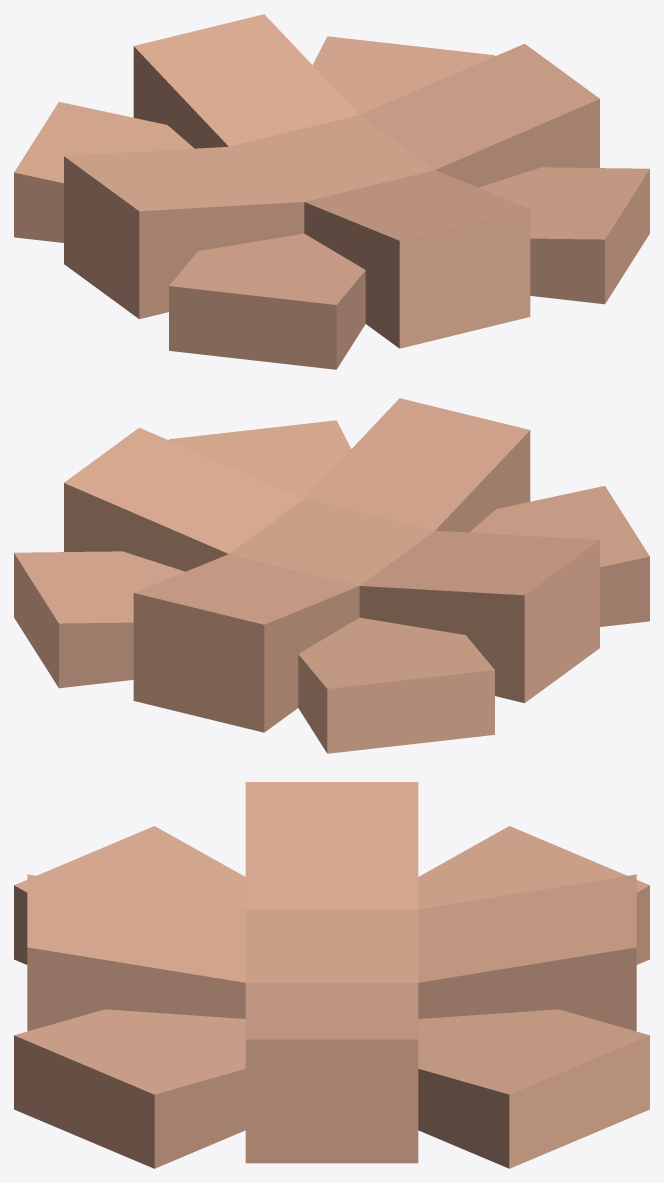
The model's file is campfire_logs.gltf.
3 renders of one model, top to bottom at view 1: azimuth 30°, elevation 25°; view 2: azimuth 150°, elevation 25°; view 3: azimuth 270°, elevation 25°, orthographic. The views are drawn at different scales.
Parts seen in each view (by area): view 1: campfire_logs; view 2: campfire_logs; view 3: campfire_logs.
Boxes of the visible parts, x1,y1,x2,y2 form: campfire_logs: (14,14,649,369); campfire_logs: (14,398,649,753); campfire_logs: (14,782,649,1168).
Size of the model in its own units: 0.2919 by 0.0626 by 0.2919.
